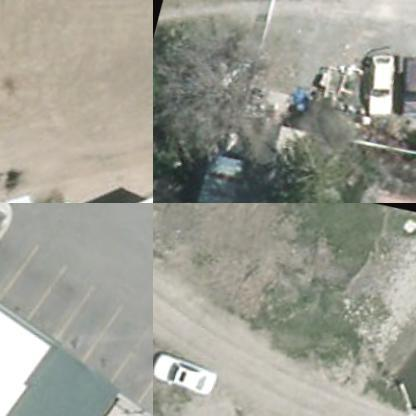car: (354, 52, 404, 127), (153, 350, 218, 400), (385, 51, 415, 129)
